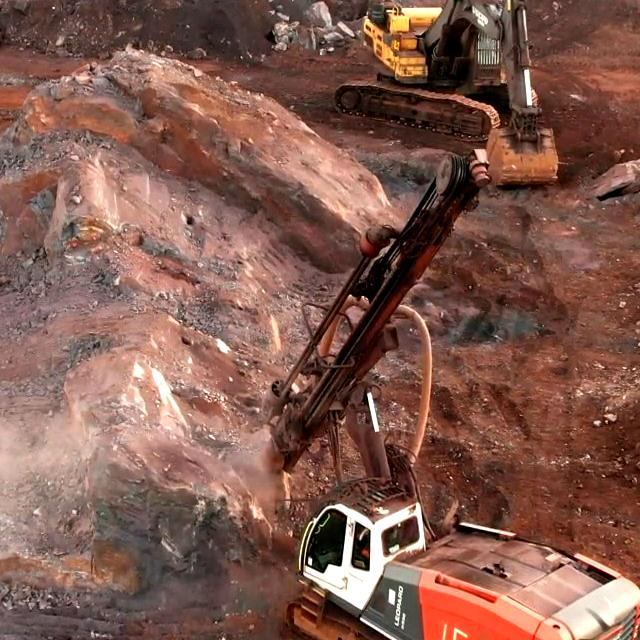Blast rig: (325, 498, 581, 640)
Excavator: (334, 0, 557, 187)
